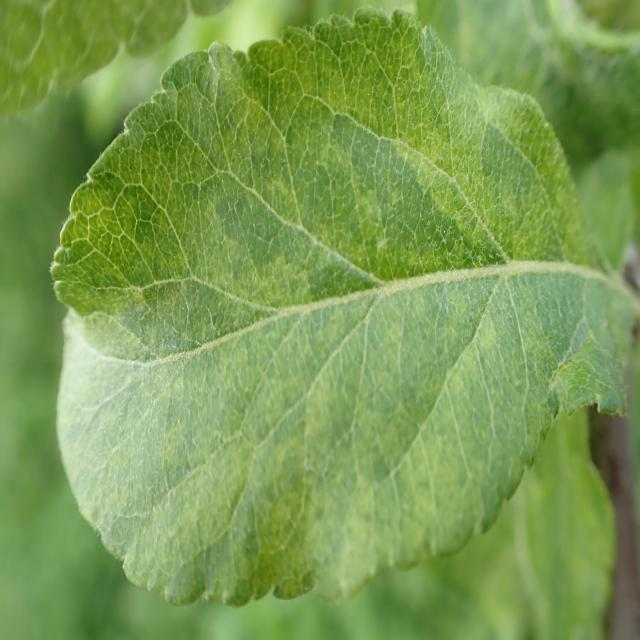scab: (78, 151, 561, 537)
